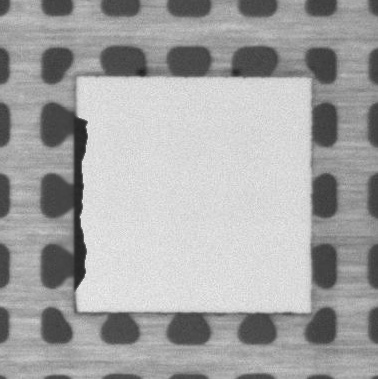DIE_BROKEN: (71, 111, 90, 291)
